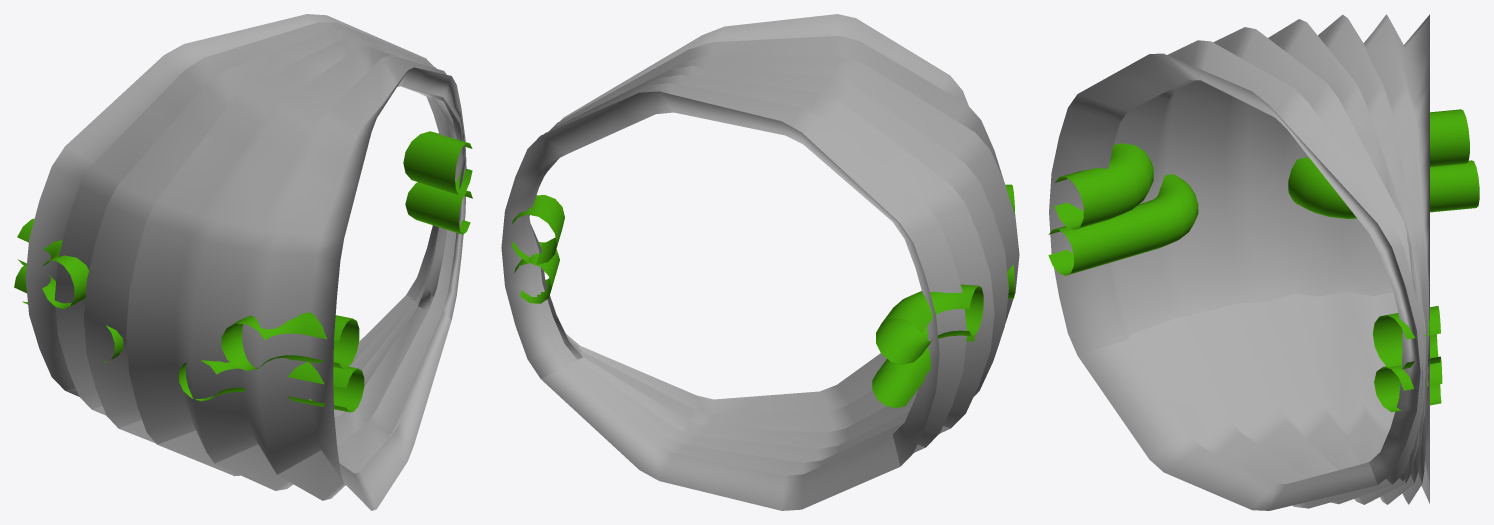
File: Couloir3.fbx
The picture shows the model from 3 angles, left to right: view 1: azimuth 30°, elevation 25°; view 2: azimuth 150°, elevation 25°; view 3: azimuth 270°, elevation 25°; orthographic projection. The views are drawn at different scales.
Parts seen in each view (by area): view 1: Couloir3_low; view 2: Couloir3_low; view 3: Couloir3_low.
Part boxes in pixels (x1,y1,x2,y2): Couloir3_low: (14, 14, 472, 510); Couloir3_low: (501, 14, 1019, 510); Couloir3_low: (1048, 14, 1479, 510).
Bounding box in the file's own units: 22.34 × 18.69 × 17.45.
